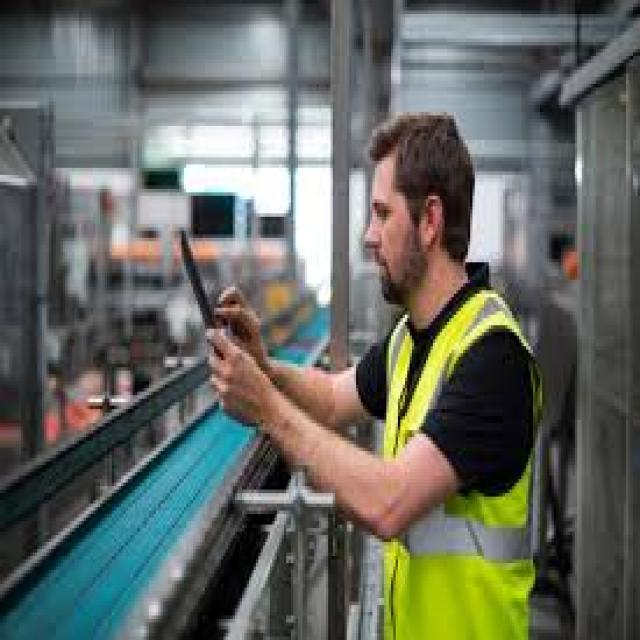reflective_jacket: (363, 286, 558, 636)
